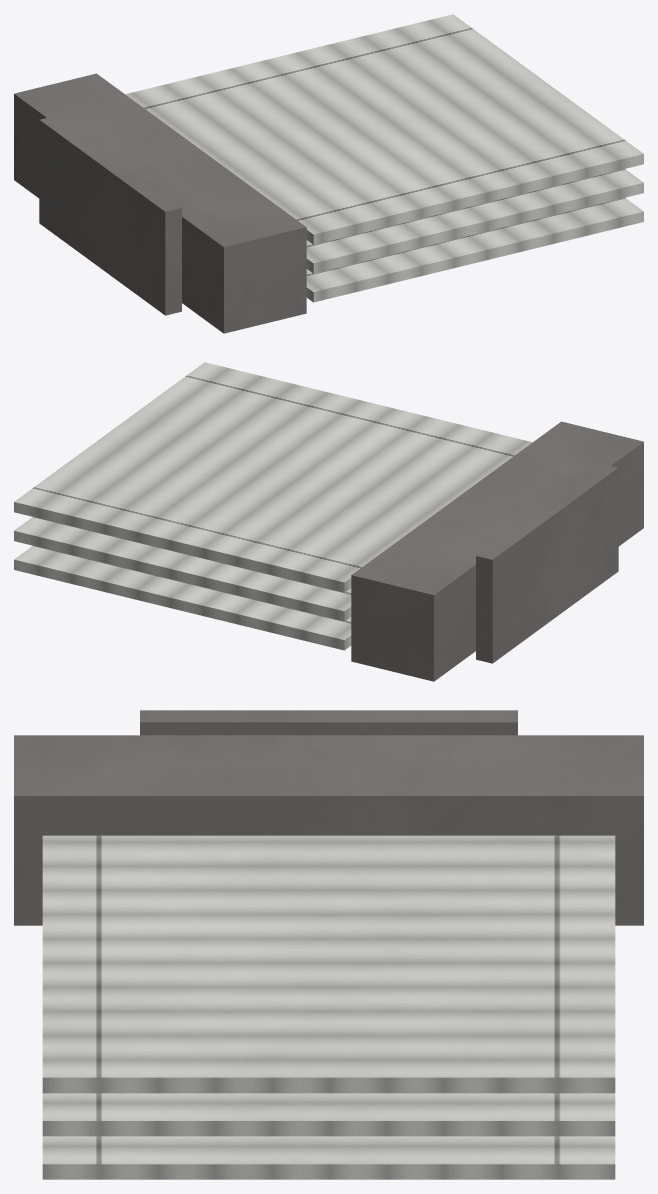
Rendered from power08_radiator_s.glb.
3 renders of one model, top to bottom at view 1: azimuth 30°, elevation 25°; view 2: azimuth 150°, elevation 25°; view 3: azimuth 270°, elevation 25°, orthographic. The views are drawn at different scales.
Visible parts, largest first — view 1: panels, base_box; view 2: panels, base_box; view 3: panels, base_box.
Part boxes in pixels (x1,y1,x2,y2): panels: (125, 14, 643, 302); base_box: (14, 73, 306, 333); panels: (14, 362, 532, 650); base_box: (351, 421, 643, 681); panels: (42, 835, 615, 1179); base_box: (14, 710, 643, 925).
Size of the model in its own units: 1.35 by 0.3 by 1.1.
2 materials, 2 textured.
